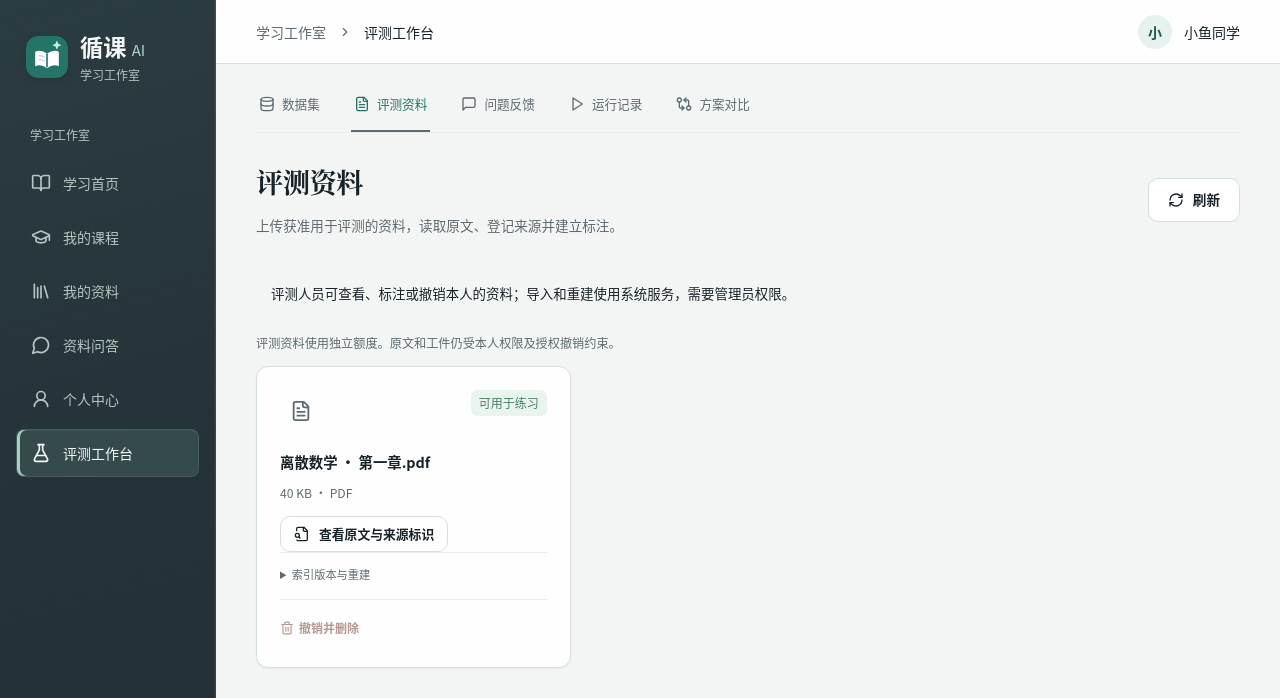
evaluation workbench › manages evaluation sources independently and reads authoritative source identities
Expected: the heading "评测资料" is shown, [256,162,363,201]
Click the button "查看原文与来源标识": (364, 534) [280,516,448,552]
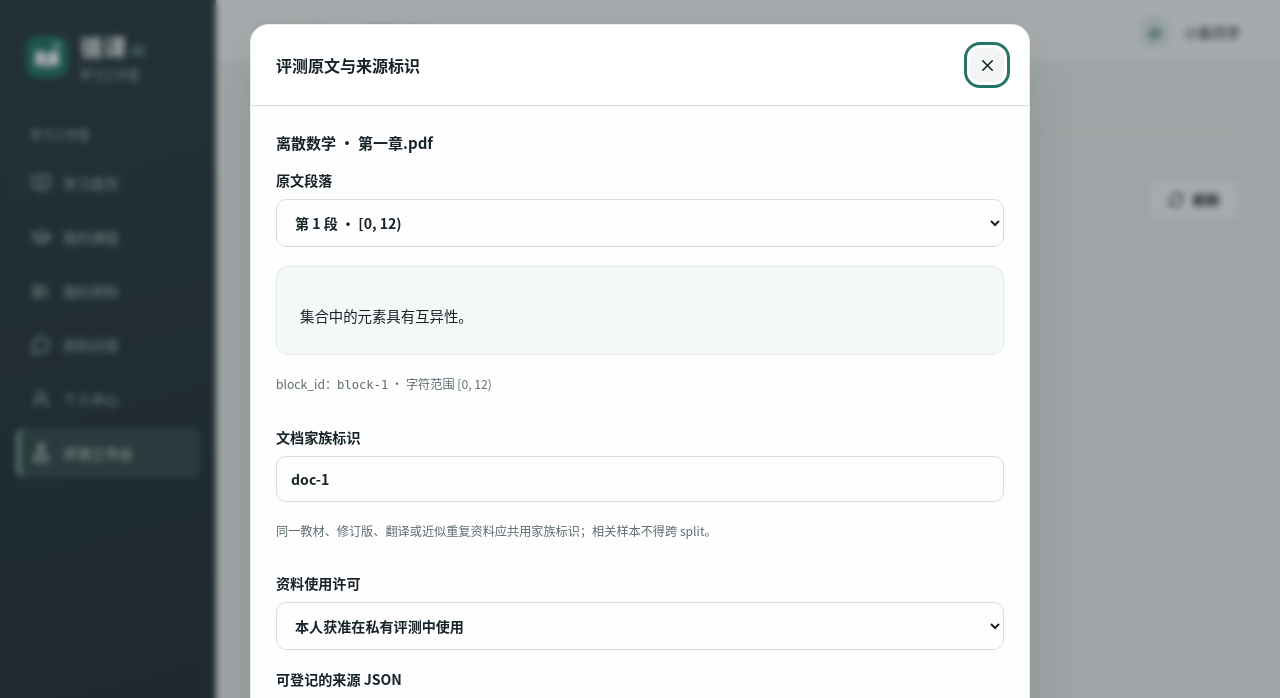
Result: the text "集合中的元素具有互异性。" is shown at [300,305,473,326]
